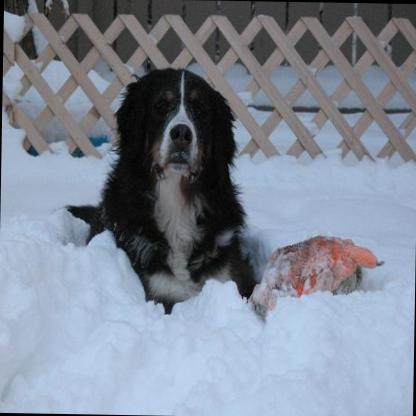Bernese_mountain_dog: (63, 64, 260, 314)
